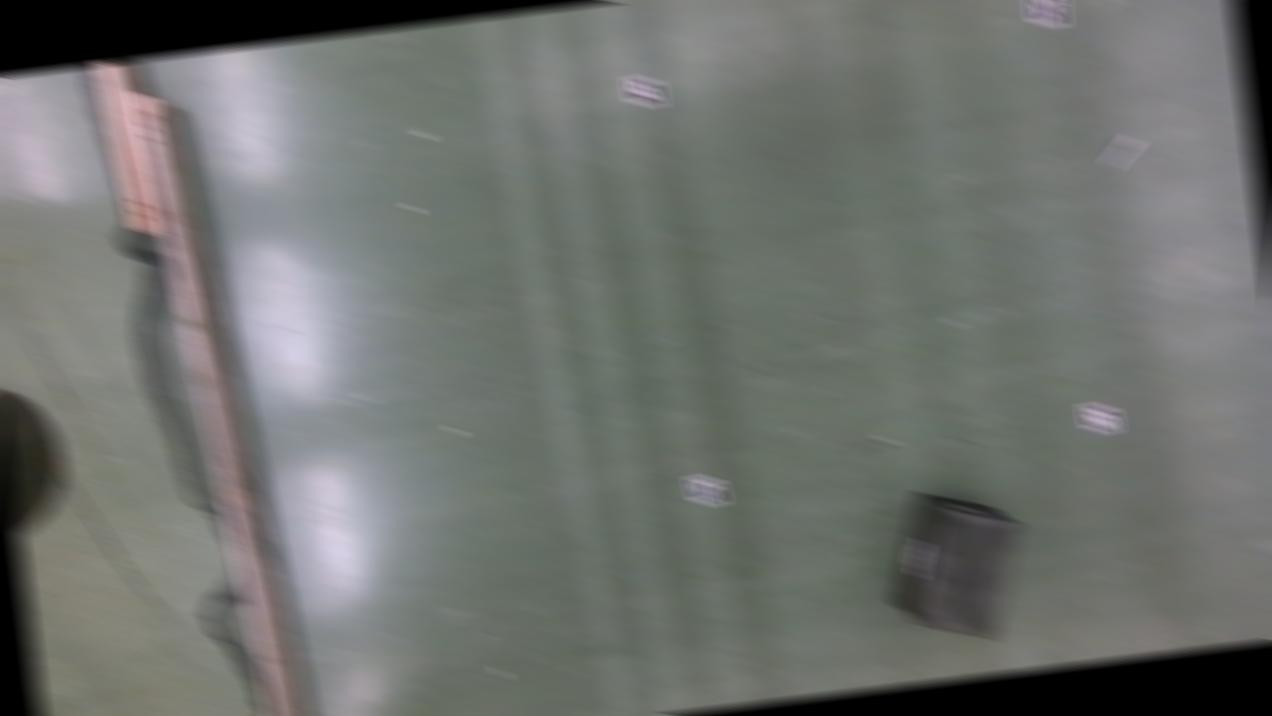probes: (1096, 134, 1144, 172)
rako: (878, 479, 1036, 649)
